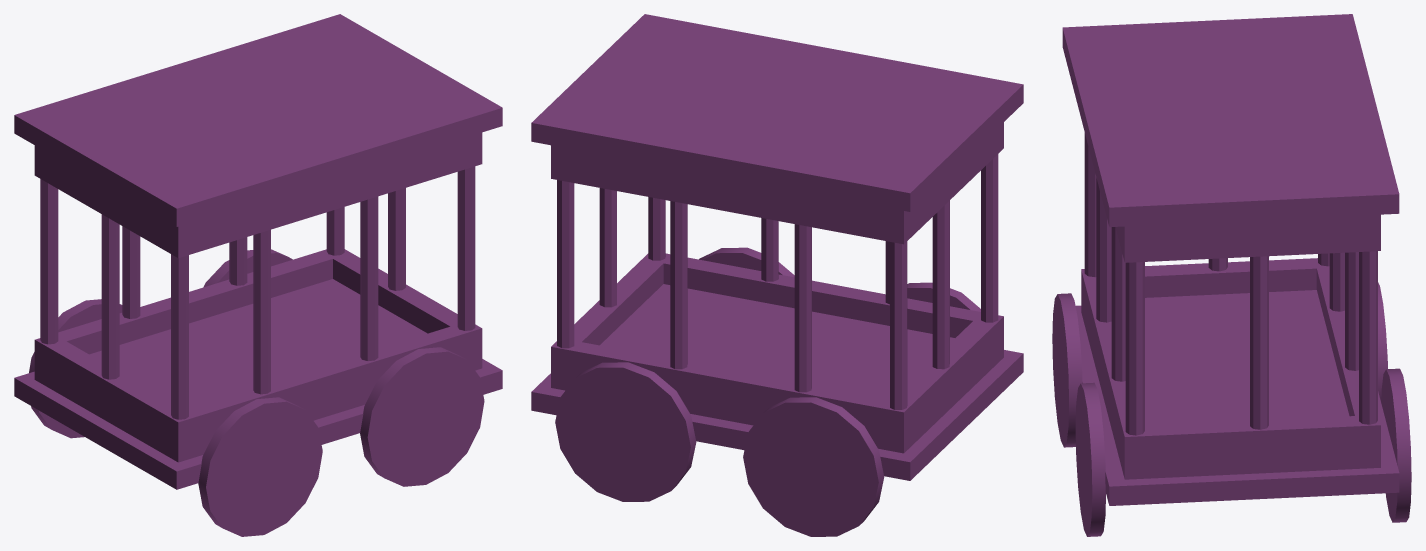
File: Cart.fbx
The picture shows the model from 3 angles, left to right: view 1: azimuth 30°, elevation 25°; view 2: azimuth 150°, elevation 25°; view 3: azimuth 270°, elevation 25°; orthographic projection. The views are drawn at different scales.
Parts seen in each view (by area): view 1: polySurface49; view 2: polySurface49; view 3: polySurface49.
Boxes of the visible parts, left/top/right/bottom form: polySurface49: left=14, top=14, right=502, bottom=536; polySurface49: left=531, top=14, right=1023, bottom=536; polySurface49: left=1052, top=14, right=1411, bottom=536.
Size of the model in its own units: 482 by 427 by 378.
